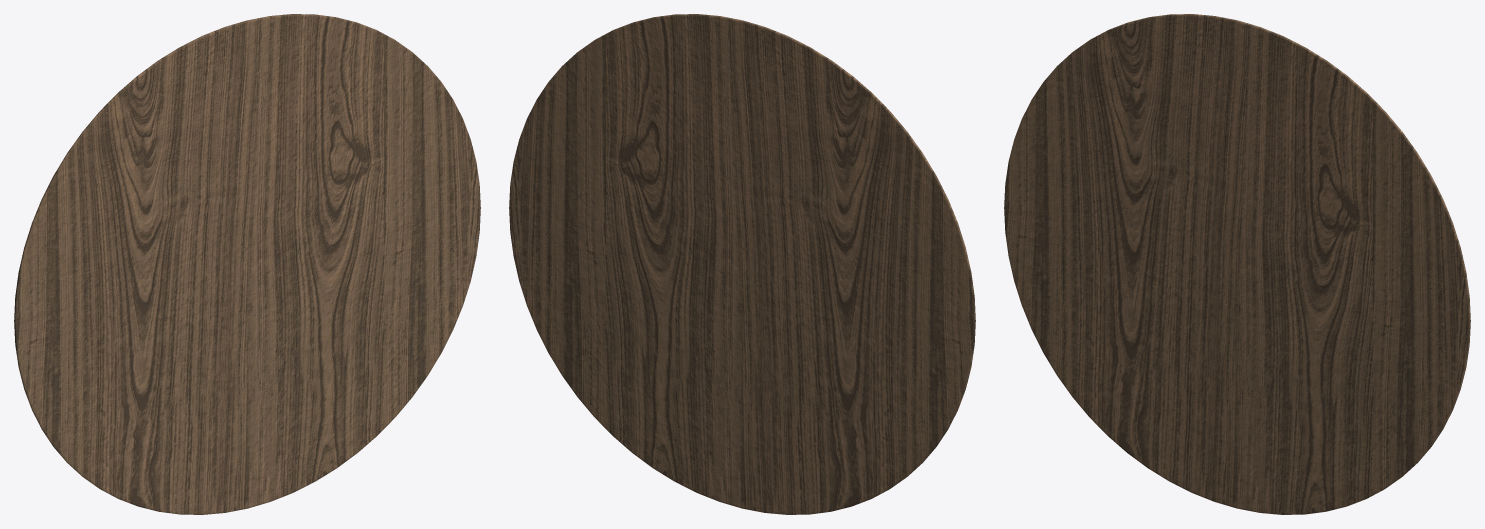
The model's file is l113_wood_button.fbx.
3 views of the same model, side by side, from view 1: azimuth 30°, elevation 25°; view 2: azimuth 150°, elevation 25°; view 3: azimuth 330°, elevation 25° (orthographic).
Visible parts, largest first — view 1: L113_wood_button; view 2: L113_wood_button; view 3: L113_wood_button.
Boxes of the visible parts, x1=… form: L113_wood_button: x1=14, y1=14, x2=480, y2=514; L113_wood_button: x1=509, y1=14, x2=975, y2=514; L113_wood_button: x1=1004, y1=14, x2=1470, y2=514.
Bounding box in the file's own units: 0.4 × 0.4 × 0.002.
Materials: 1 (1 with a texture image).
